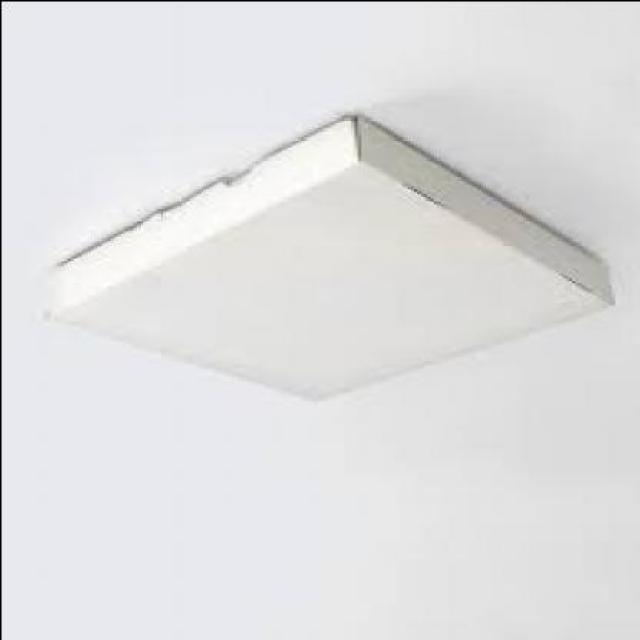CARDBOARD: (47, 115, 607, 403)
